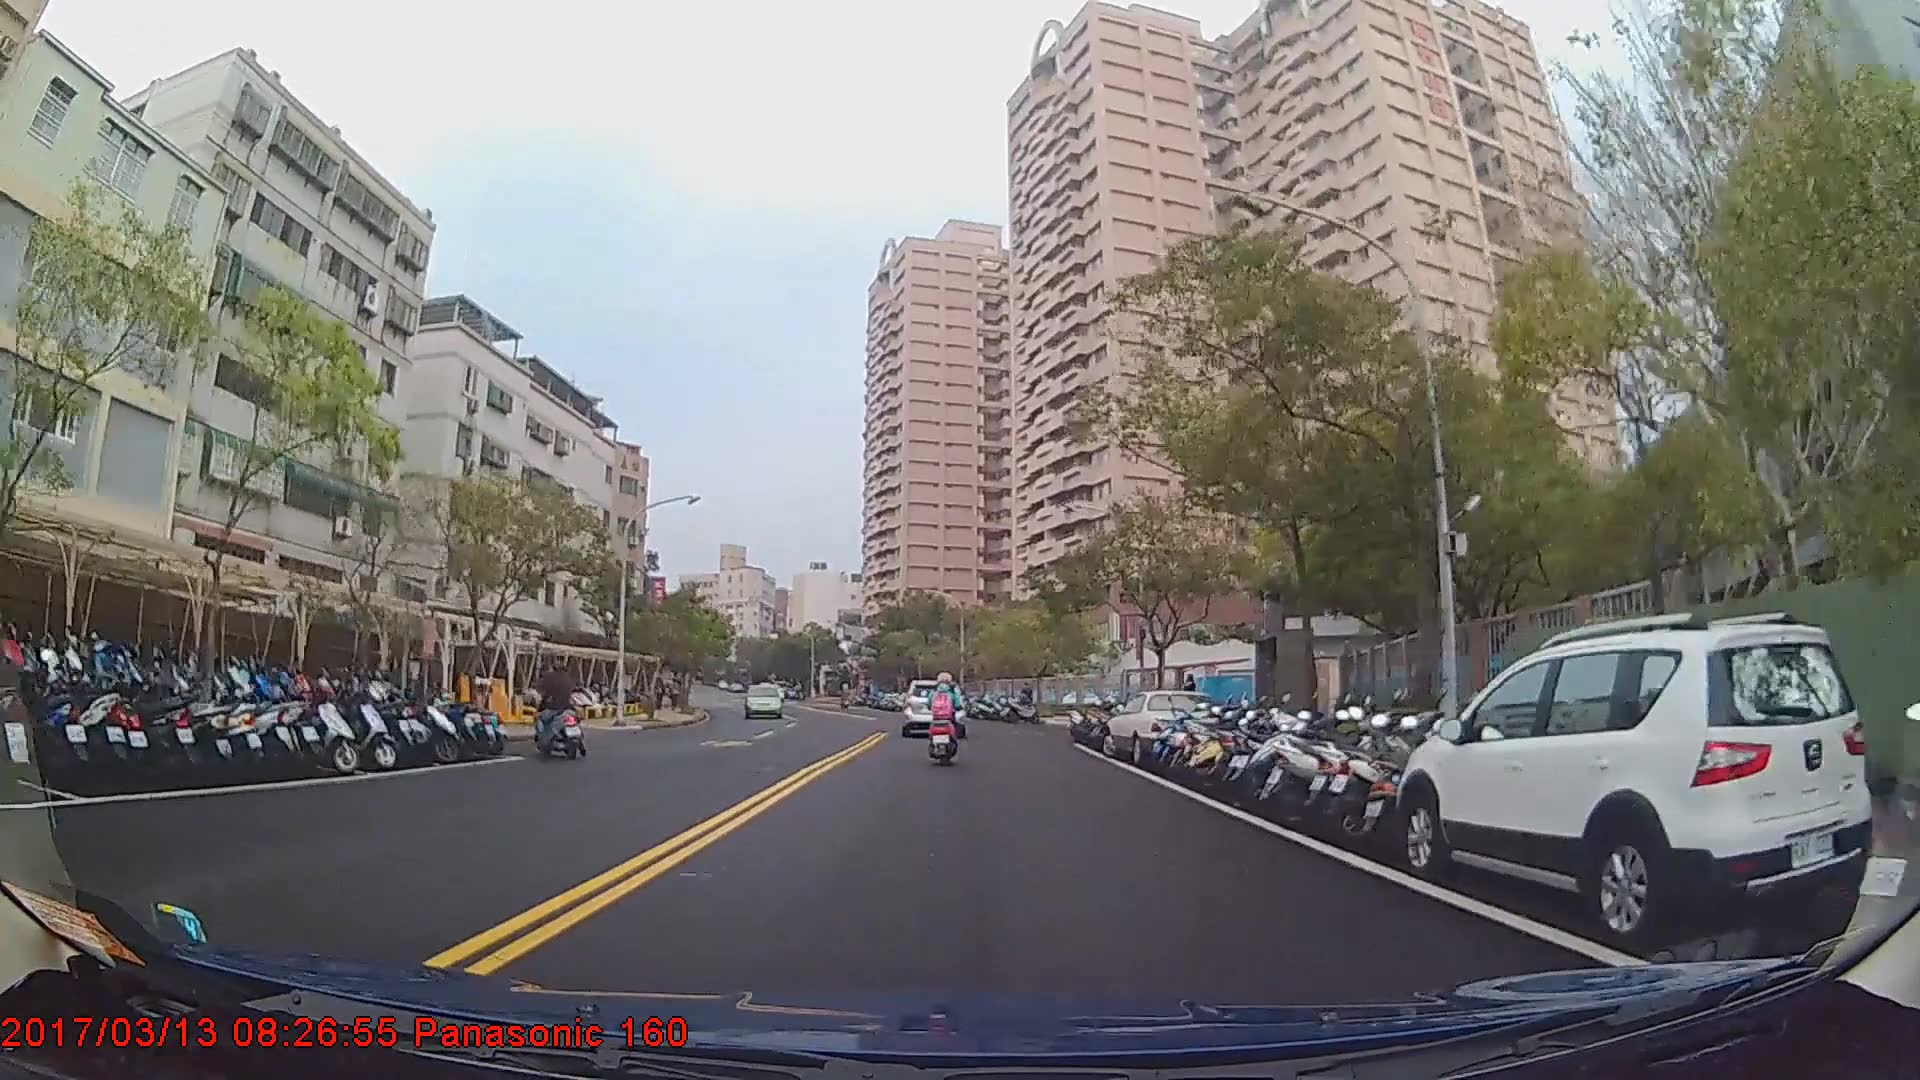rider: (524, 664, 591, 762), (922, 671, 964, 769)
vehicle: (1396, 611, 1850, 945), (1100, 689, 1215, 763), (897, 677, 964, 734), (740, 682, 784, 718)
